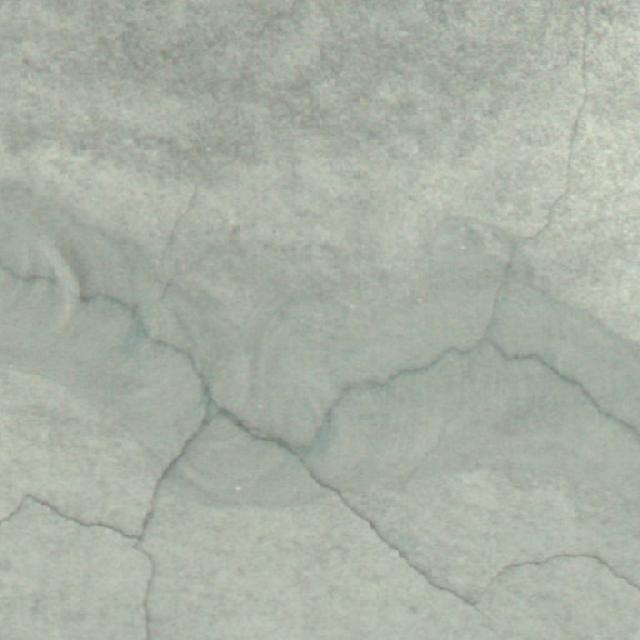Network: (0, 247, 640, 640)
